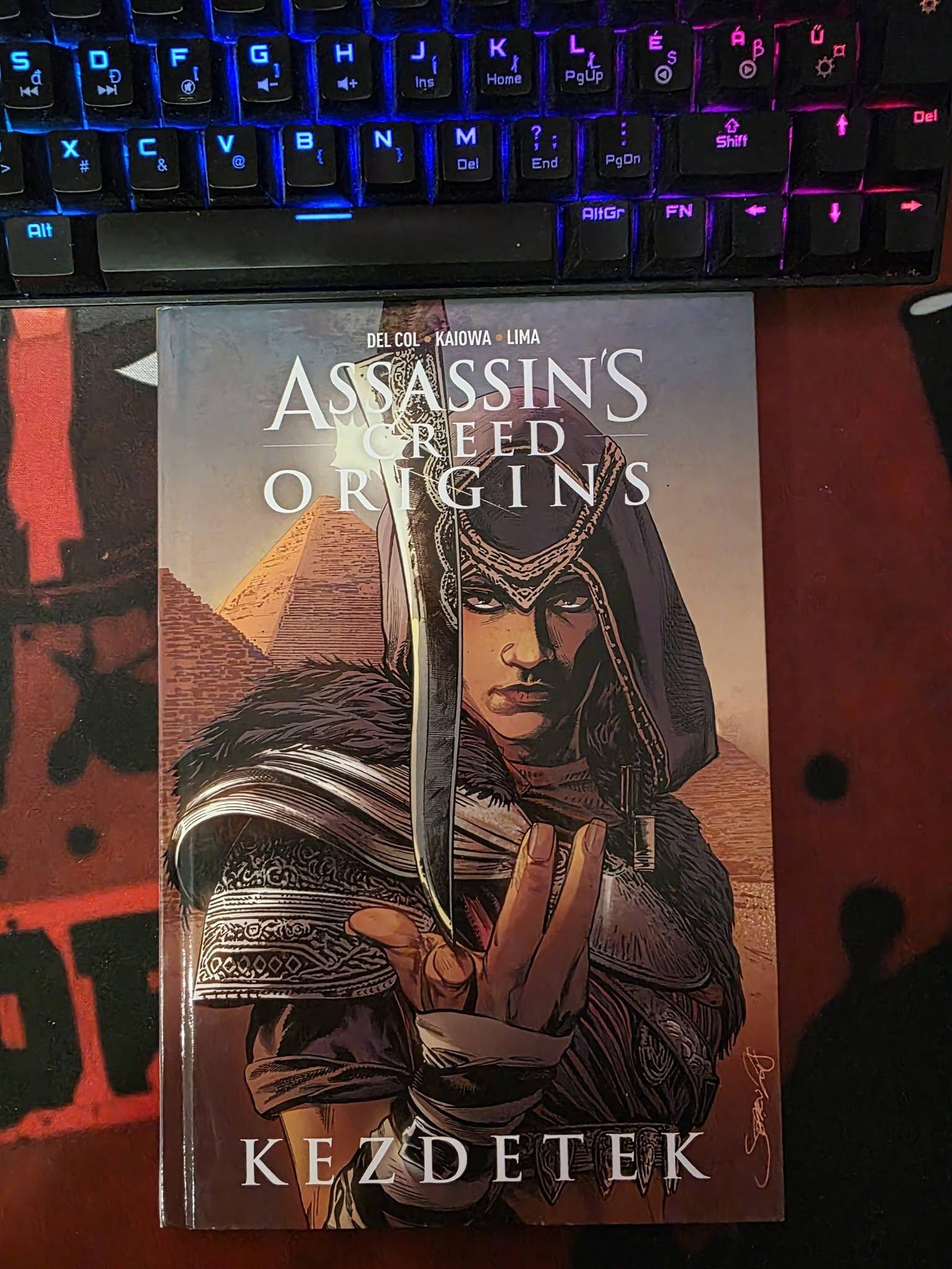comic: (153, 295, 780, 1230)
